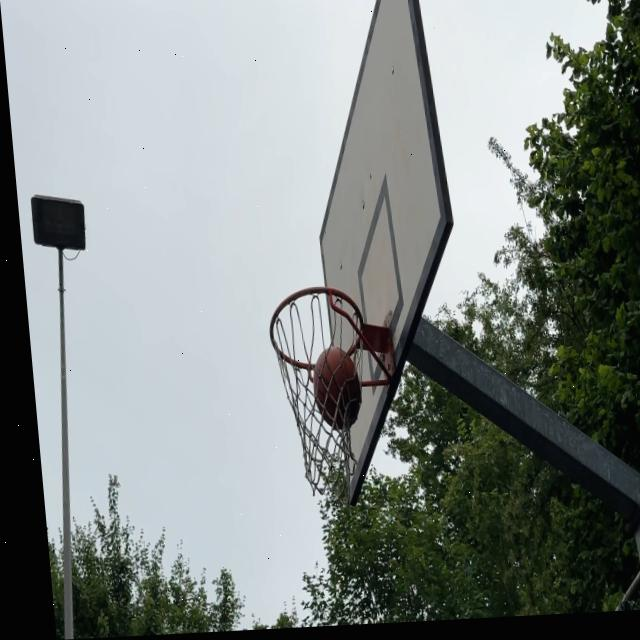Goal: (312, 346, 365, 431)
